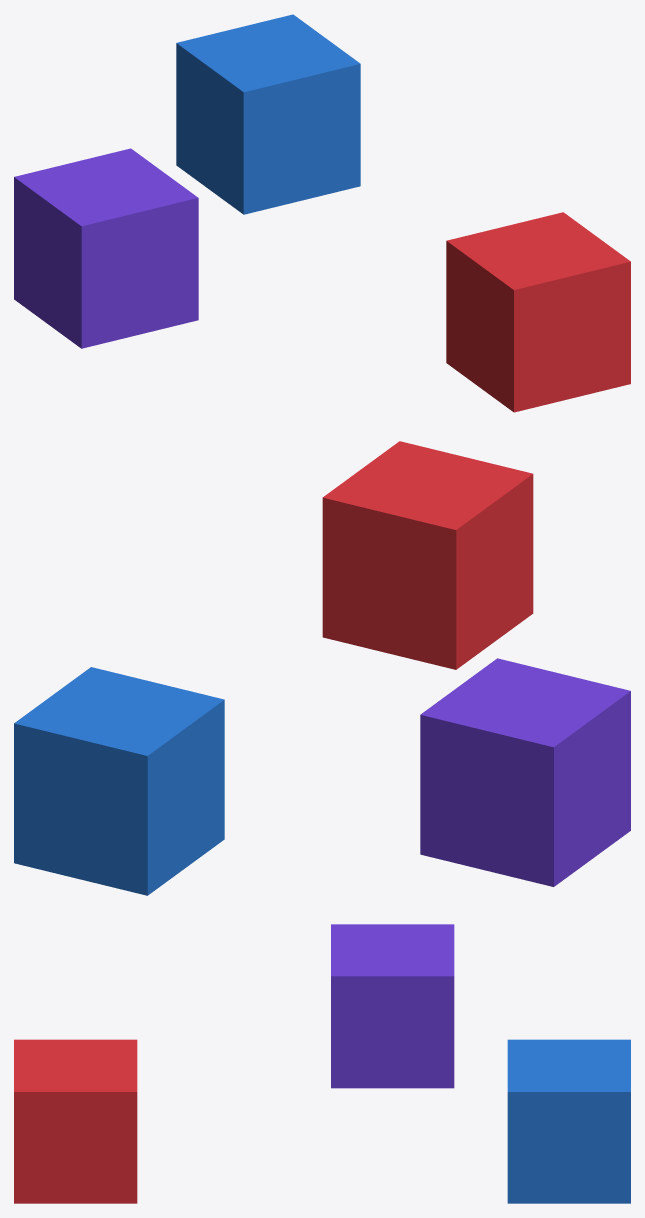
Rendered from three_cubes_no_floor.gltf.
3 views of the same model, one above another, from view 1: azimuth 30°, elevation 25°; view 2: azimuth 150°, elevation 25°; view 3: azimuth 270°, elevation 25° (orthographic). The views are drawn at different scales.
Parts seen in each view (by area): view 1: Cube.002, Cube, Cube.001; view 2: Cube.001, Cube, Cube.002; view 3: Cube, Cube.001, Cube.002.
Boxes of the visible parts, bbox=[...] form: Cube.002: bbox=[176, 14, 360, 214]; Cube: bbox=[14, 148, 198, 348]; Cube.001: bbox=[446, 212, 630, 412]; Cube.001: bbox=[322, 441, 533, 669]; Cube: bbox=[420, 658, 630, 886]; Cube.002: bbox=[14, 667, 224, 895]; Cube: bbox=[331, 924, 454, 1088]; Cube.001: bbox=[14, 1039, 137, 1203]; Cube.002: bbox=[507, 1039, 630, 1203].
Bounding box in the file's own units: 6.43 × 2 × 10.
